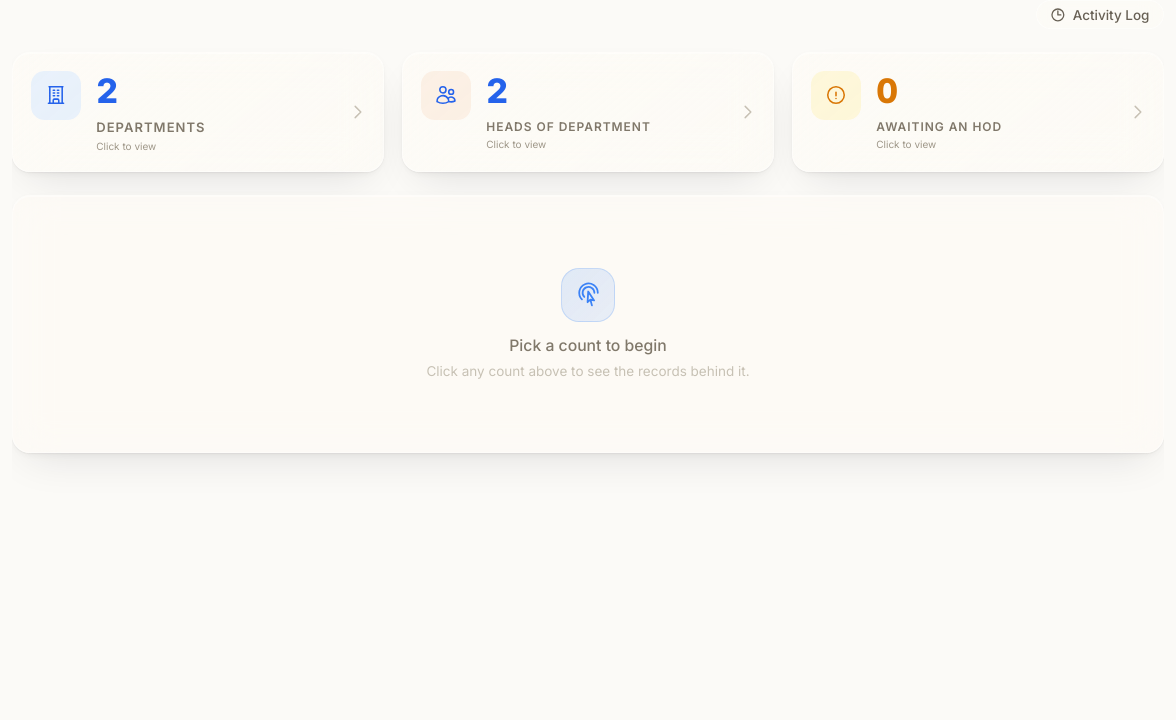
Scenario: AdminOverviewDrilldown — Heads of Department view › clicking "Heads of Department" reveals HOD names and emails grouped by department
Click the button "2 Heads of Department Click to view". click: {"x": 446, "y": 95}
box: [402,52,774,172]
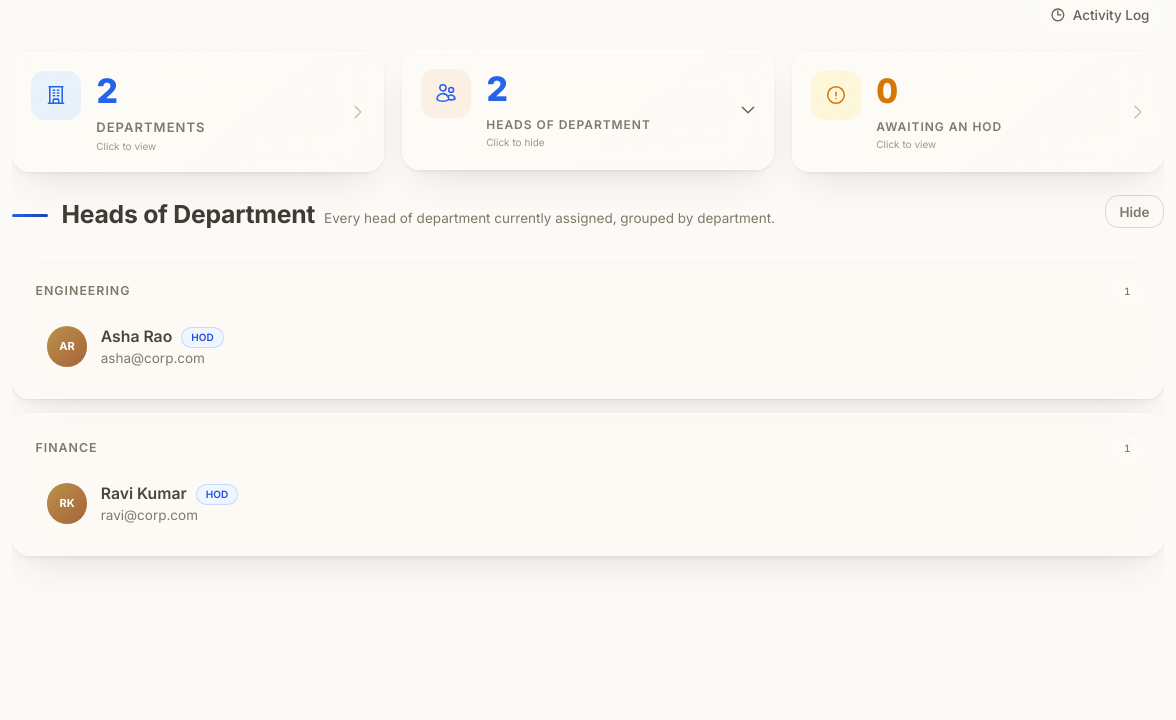
Expected: the text "Asha Rao" is shown, [101,326,172,348]
Expected: the text "asha@corp.com" is shown, [101,350,205,366]
Expected: the text "Ravi Kumar" is shown, [101,483,187,506]
